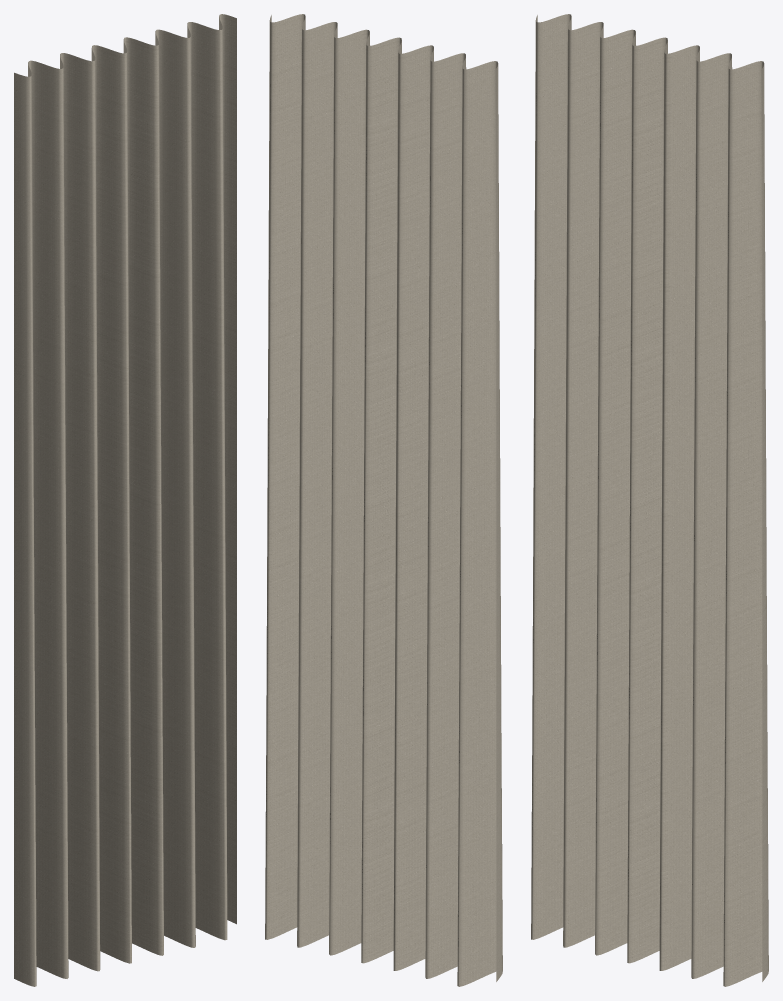
Rendered from linen_curtain.glb.
3 renders of one model, left to right at view 1: azimuth 30°, elevation 25°; view 2: azimuth 150°, elevation 25°; view 3: azimuth 330°, elevation 25°, orthographic.
Parts seen in each view (by area): view 1: Curtain; view 2: Curtain; view 3: Curtain.
Boxes of the visible parts, box(x1,y1,x2,y2) form: Curtain: box(14, 14, 236, 986); Curtain: box(265, 14, 502, 986); Curtain: box(531, 14, 768, 986).
Size of the model in its own units: 0.7 by 2.72 by 0.15.
1 material, 1 textured.
